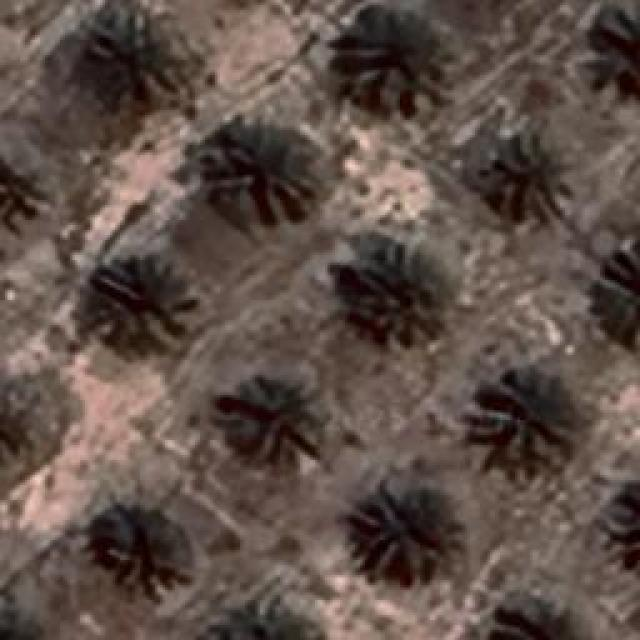PalmTree: (26, 64, 136, 186), (342, 10, 456, 108), (90, 257, 195, 355), (208, 118, 310, 218), (350, 240, 450, 342), (220, 370, 322, 468), (355, 480, 460, 575), (480, 370, 572, 470), (468, 130, 562, 220), (104, 512, 188, 588), (584, 4, 638, 98), (0, 370, 48, 473), (202, 600, 324, 640), (592, 242, 638, 348), (492, 595, 586, 635), (611, 474, 640, 578), (0, 596, 51, 640), (621, 474, 640, 578)
